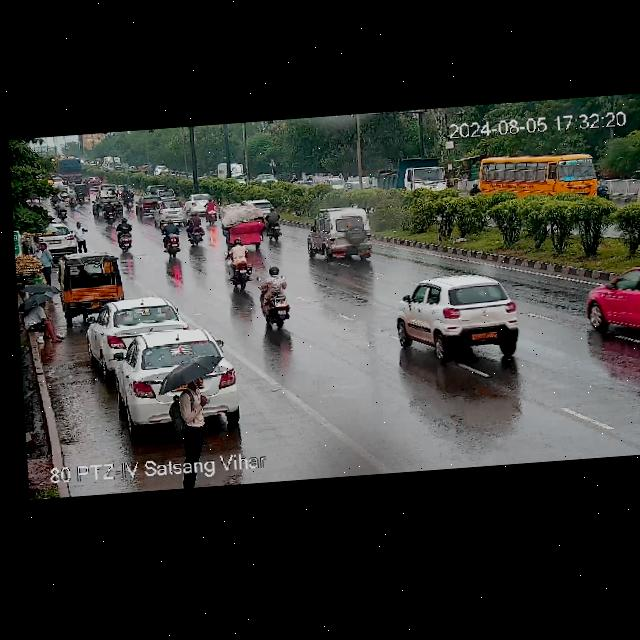bus: (477, 150, 601, 202)
car: (393, 272, 535, 363), (111, 325, 232, 415), (91, 295, 181, 358), (583, 260, 640, 340), (59, 250, 125, 311), (313, 206, 376, 263), (221, 199, 265, 251), (27, 223, 92, 256), (153, 199, 189, 224), (92, 191, 123, 219), (187, 193, 215, 208)
motorcycle: (257, 263, 298, 331), (219, 241, 261, 294), (159, 217, 185, 255), (111, 218, 138, 252), (265, 210, 288, 247), (189, 214, 208, 247), (204, 197, 221, 223), (56, 197, 71, 222), (126, 188, 135, 212)
person: (22, 299, 55, 348), (34, 240, 59, 281), (73, 218, 89, 252)
truck: (374, 154, 451, 193), (55, 152, 89, 185)
